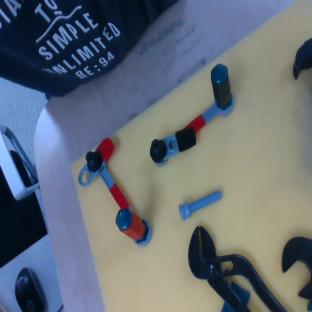non_pass: (139, 61, 251, 176)
pass: (67, 136, 156, 259)
